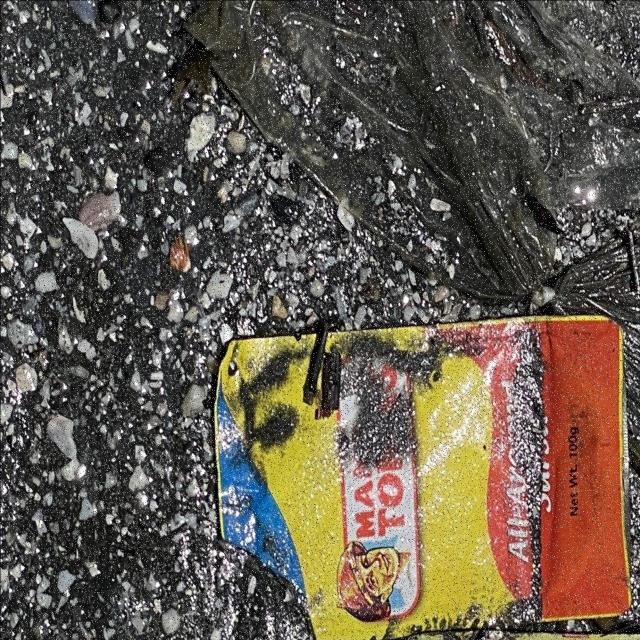plastic_waste: (214, 315, 633, 637)
